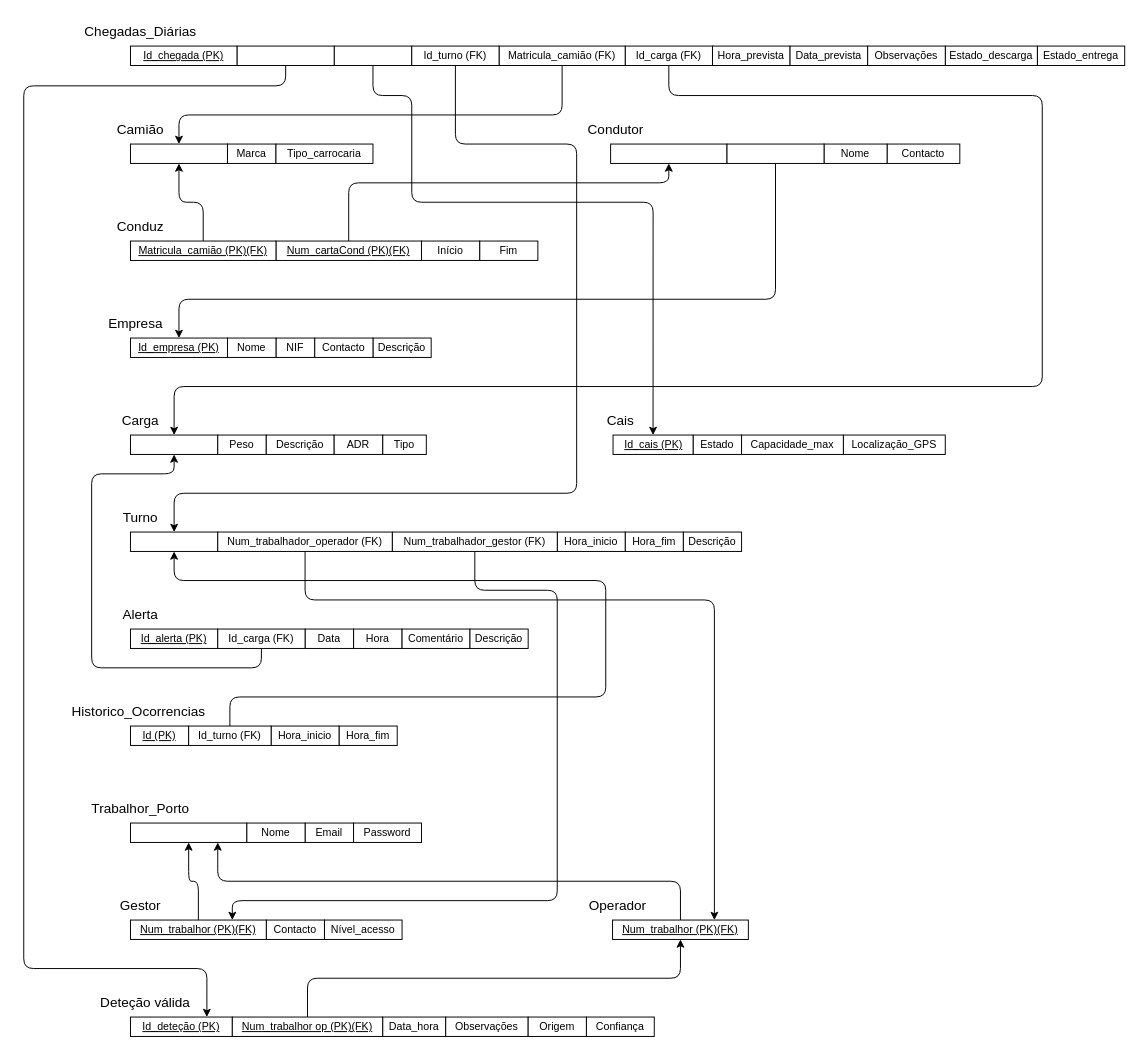
Some shapes in this 1142 by 1053 pixel diagram are drawn without their labels. Here are the shapes that lost their labels. From the top down, the centre of each, then its label:
At point (285, 55): "Id_deteção (FK)".
At point (372, 55): "Id_cais (FK)".
At point (178, 153): "Matrícula (PK)".
At point (668, 153): "Num_cartaCond (PK)".
At point (775, 153): "Id_empresa (FK)".
At point (173, 444): "Id_carga (PK)".
At point (173, 541): "Id_turno (PK)".
At point (188, 832): "Num_trabalhor (PK)".
